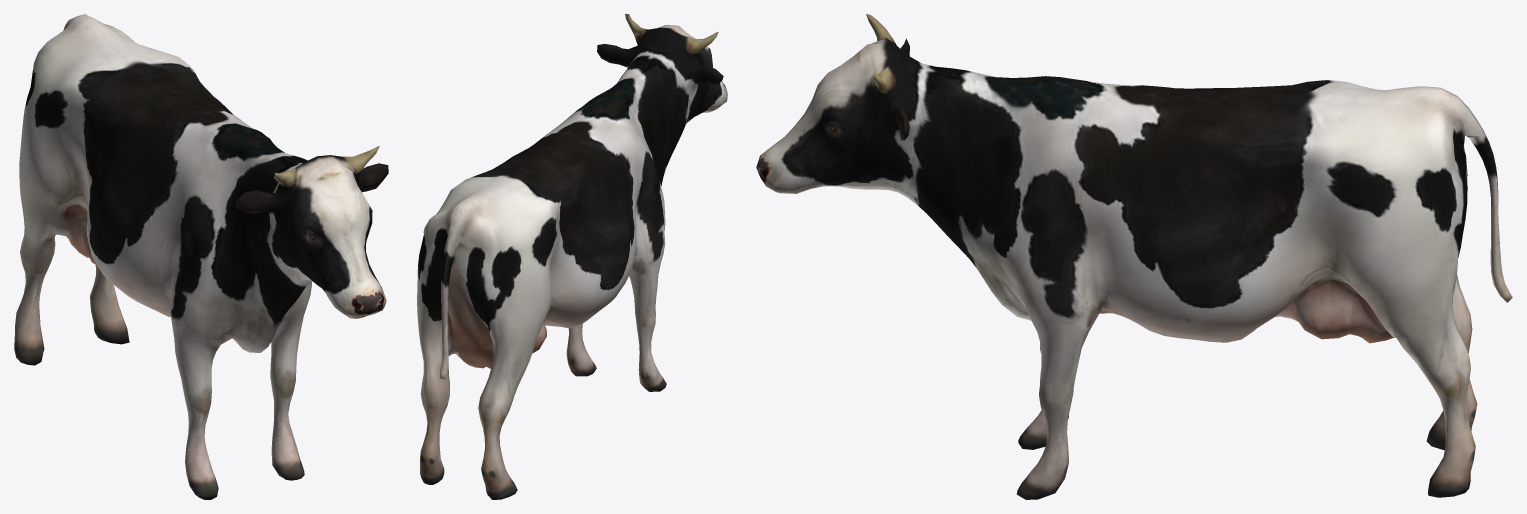
Rendered from dairy_cow_low_poly.glb.
The picture shows the model from 3 angles, left to right: view 1: azimuth 30°, elevation 25°; view 2: azimuth 150°, elevation 25°; view 3: azimuth 270°, elevation 25°; orthographic projection. The views are drawn at different scales.
Parts seen in each view (by area): view 1: Dairy_cow; view 2: Dairy_cow; view 3: Dairy_cow.
Boxes of the visible parts, x1,y1,x2,y2 form: Dairy_cow: (14,14,388,499); Dairy_cow: (417,14,727,499); Dairy_cow: (756,14,1512,499).
Bounding box in the file's own units: 0.5983 × 1.4 × 2.2.
1 material, 1 textured.
